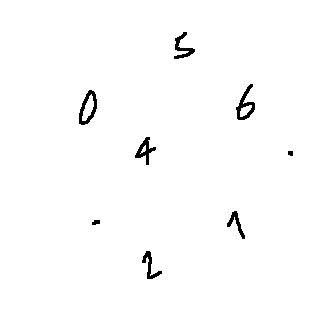.: (279, 144, 304, 160), (88, 217, 107, 229)
0: (71, 85, 105, 138)
1: (220, 205, 261, 252)
2: (134, 250, 173, 301)
4: (129, 129, 163, 168)
5: (165, 24, 203, 63)
6: (233, 75, 261, 135)
